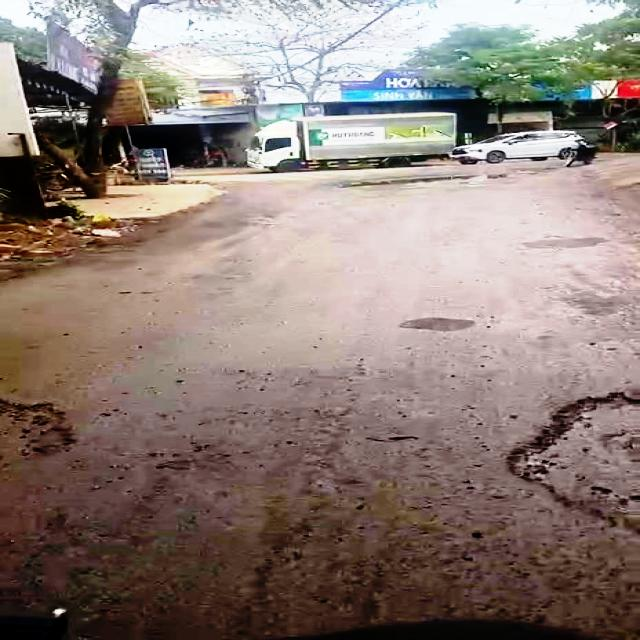pothole: (502, 388, 640, 533), (0, 385, 83, 466)
